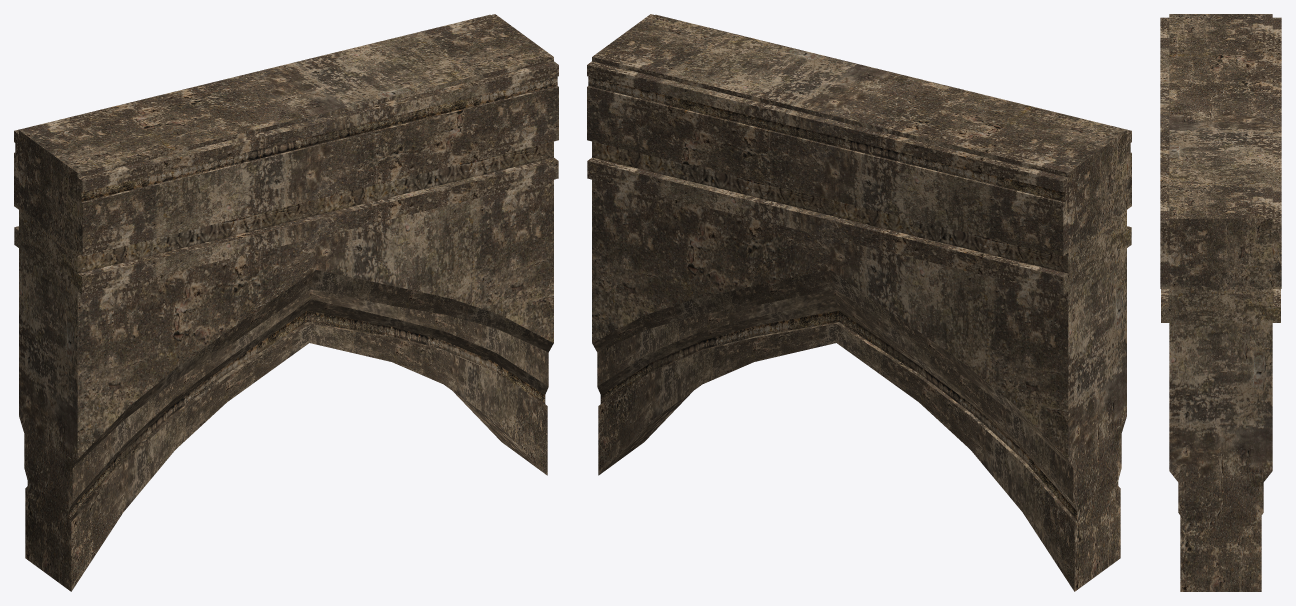
File: materials_5_arch_16.fbx
3 views of the same model, side by side, from view 1: azimuth 30°, elevation 25°; view 2: azimuth 150°, elevation 25°; view 3: azimuth 270°, elevation 25° (orthographic). The views are drawn at different scales.
Visible parts, largest first — view 1: materials_5_arch_16; view 2: materials_5_arch_16; view 3: materials_5_arch_16.
Part boxes in pixels (x1,y1,x2,y2): materials_5_arch_16: (14, 14, 558, 591); materials_5_arch_16: (587, 14, 1131, 591); materials_5_arch_16: (1160, 14, 1281, 591).
Bounding box in the file's own units: 151 × 129 × 37.82.
